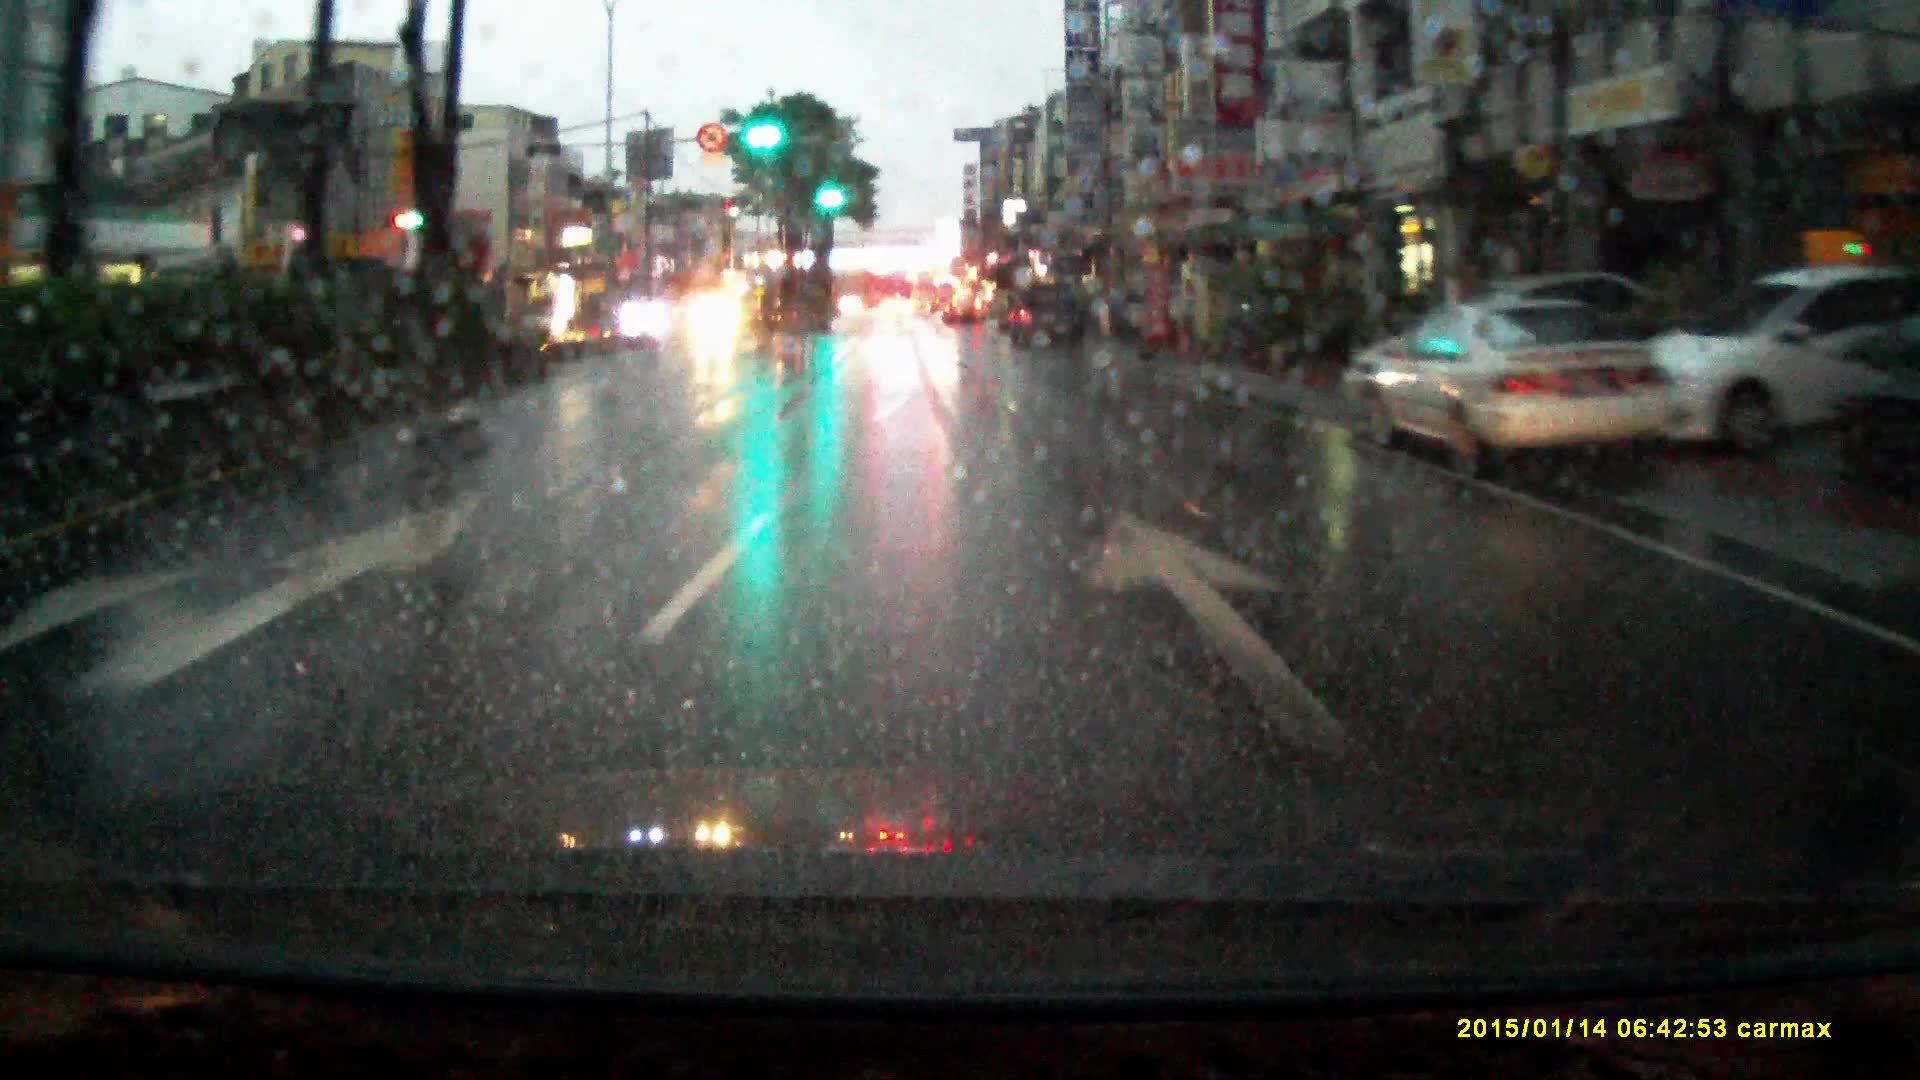vehicle: (1360, 302, 1701, 484), (1658, 269, 1886, 465), (1010, 284, 1091, 356), (682, 295, 748, 349), (615, 303, 667, 344), (913, 272, 943, 319), (943, 294, 982, 328), (882, 299, 918, 322)
